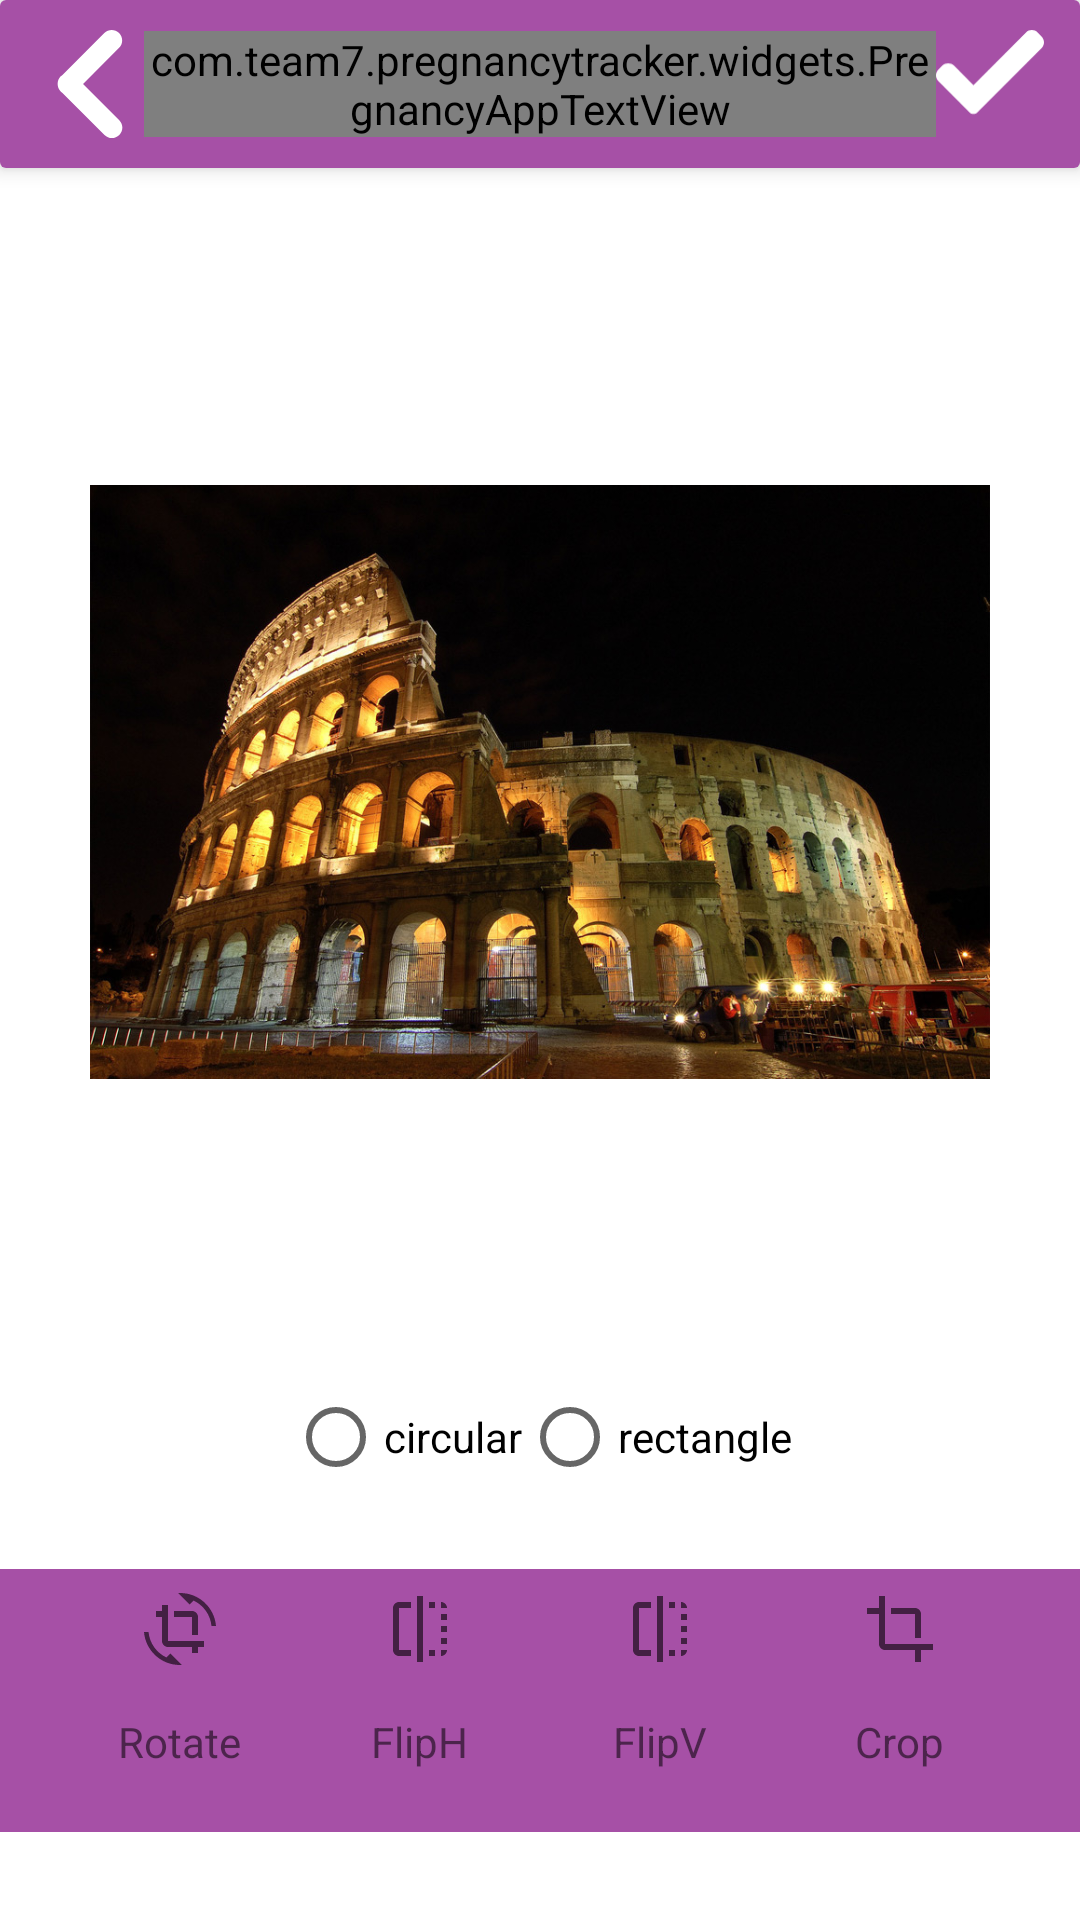

Where to tap for icons on this 1080×1920 app screen, as [x,y]:
back: [90,84]
check: [990,72]
